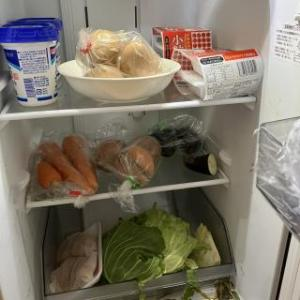cabbage: (102, 203, 198, 293), (196, 220, 222, 272)
carrot: (38, 141, 96, 197), (62, 136, 100, 189), (36, 162, 62, 192)
eggplant: (182, 151, 218, 177), (173, 126, 204, 154), (153, 129, 178, 159)
onion: (113, 146, 154, 188), (129, 136, 163, 172), (92, 139, 126, 175)
